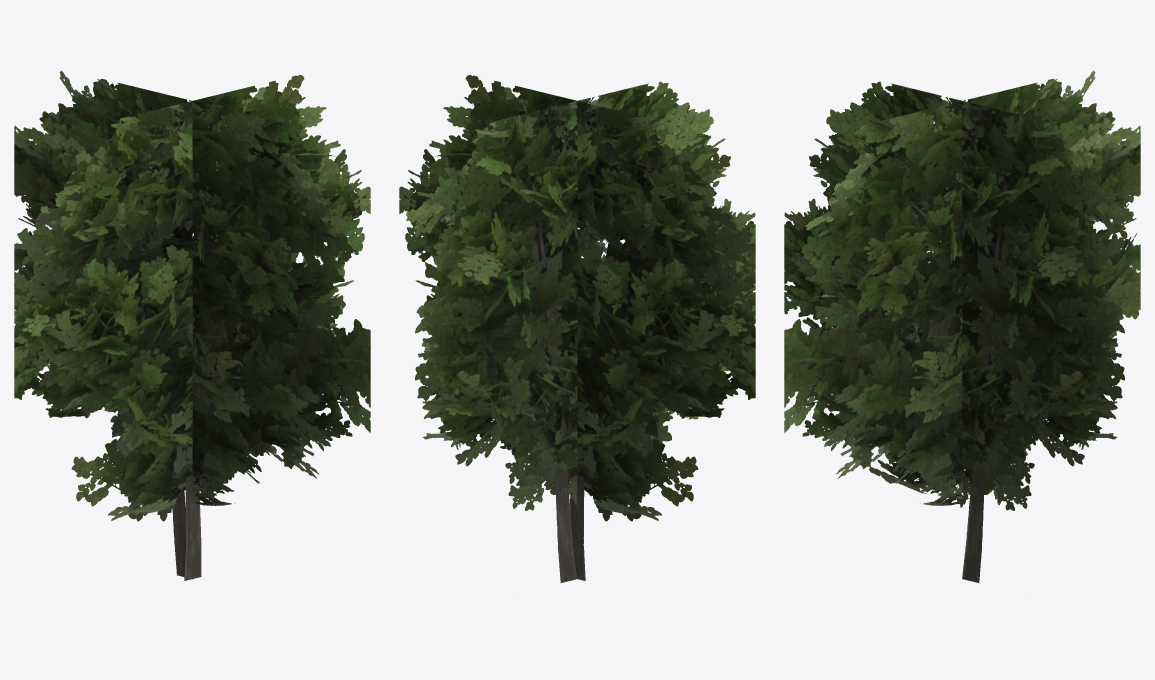
The model's file is lipa_mlada_daleko.glb.
3 views of the same model, side by side, from view 1: azimuth 30°, elevation 25°; view 2: azimuth 150°, elevation 25°; view 3: azimuth 270°, elevation 25° (orthographic).
Visible parts, largest first — view 1: lipa_mlada_daleko; view 2: lipa_mlada_daleko; view 3: lipa_mlada_daleko.
Boxes of the visible parts, x1=… form: lipa_mlada_daleko: x1=14, y1=70, x2=370, y2=580; lipa_mlada_daleko: x1=399, y1=75, x2=755, y2=583; lipa_mlada_daleko: x1=784, y1=70, x2=1140, y2=583.
Size of the model in its own units: 5.98 by 7.68 by 5.18.
Materials: 3 (3 with a texture image).
